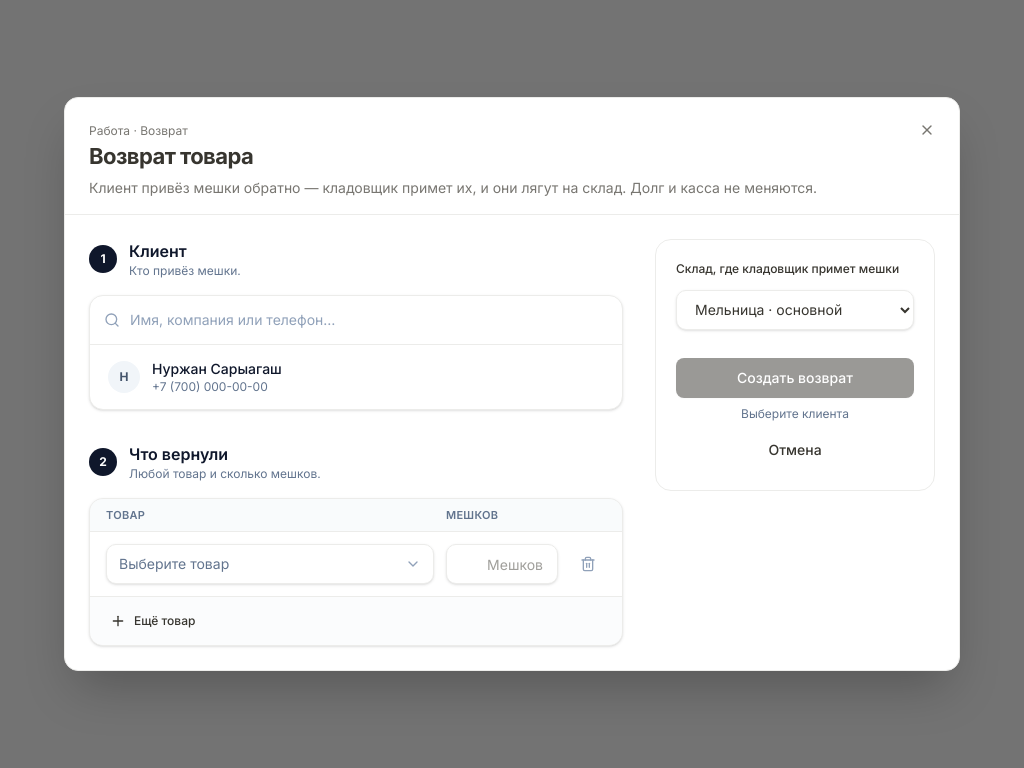
Scenario: GoodsReturnModal › без денег: ни выбора «долг или касса», ни раскладки по заказам, товары — из каталога формы
Click the button "Н Нуржан Сарыагаш +7 (700) 000-00-00" at (124,377), box [96,351,616,403]
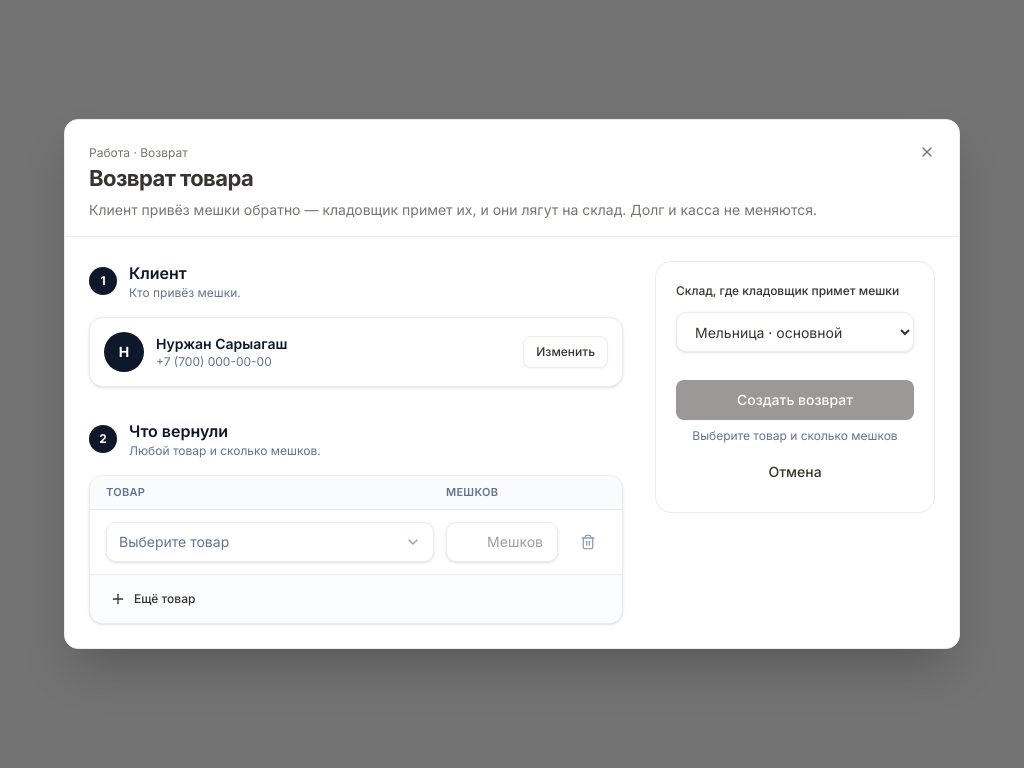
Expected: the text "Долг и касса не меняются." is shown, [89,201,817,218]
Click the button with aria-label "Товар 1" at (174,541), box [106,522,434,562]
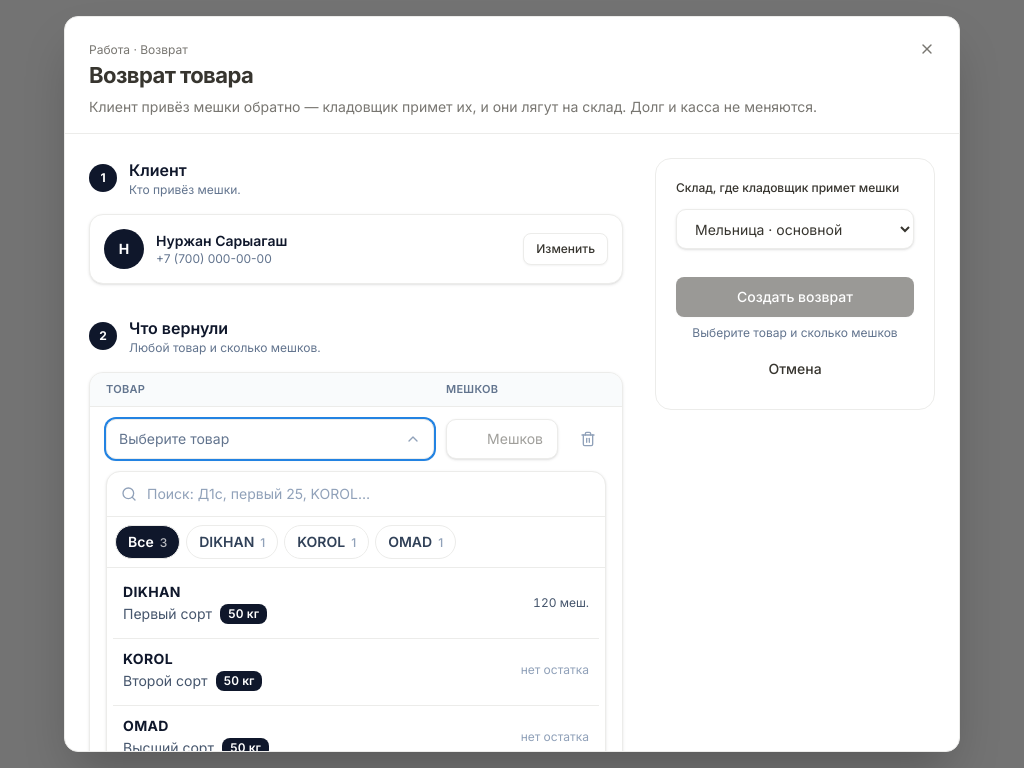
Now the number of options is 3, box [113,574,599,632]; [113,638,599,698]; [113,704,599,751]
Now the option "DIKHAN Первый сорт 50 кг 120 меш." is shown, box [113,574,599,632]
